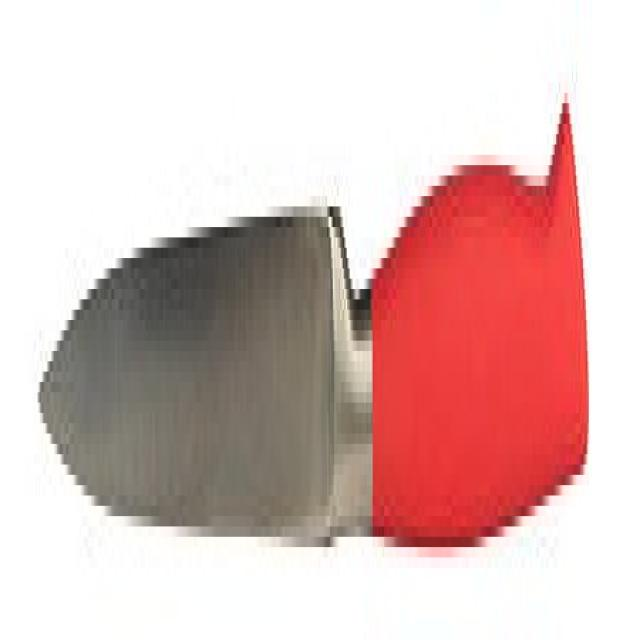knife: (36, 69, 595, 603)
